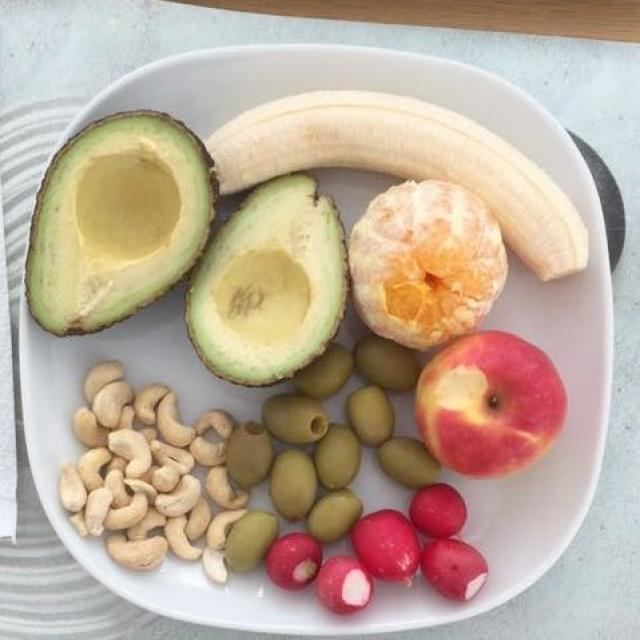apple: (410, 328, 582, 485)
avocado: (9, 112, 353, 387)
banana: (204, 91, 586, 302)
cashew-nut: (54, 362, 244, 610)
green-olives: (224, 328, 453, 543)
orange: (338, 170, 540, 360)
radish: (254, 490, 495, 613)
